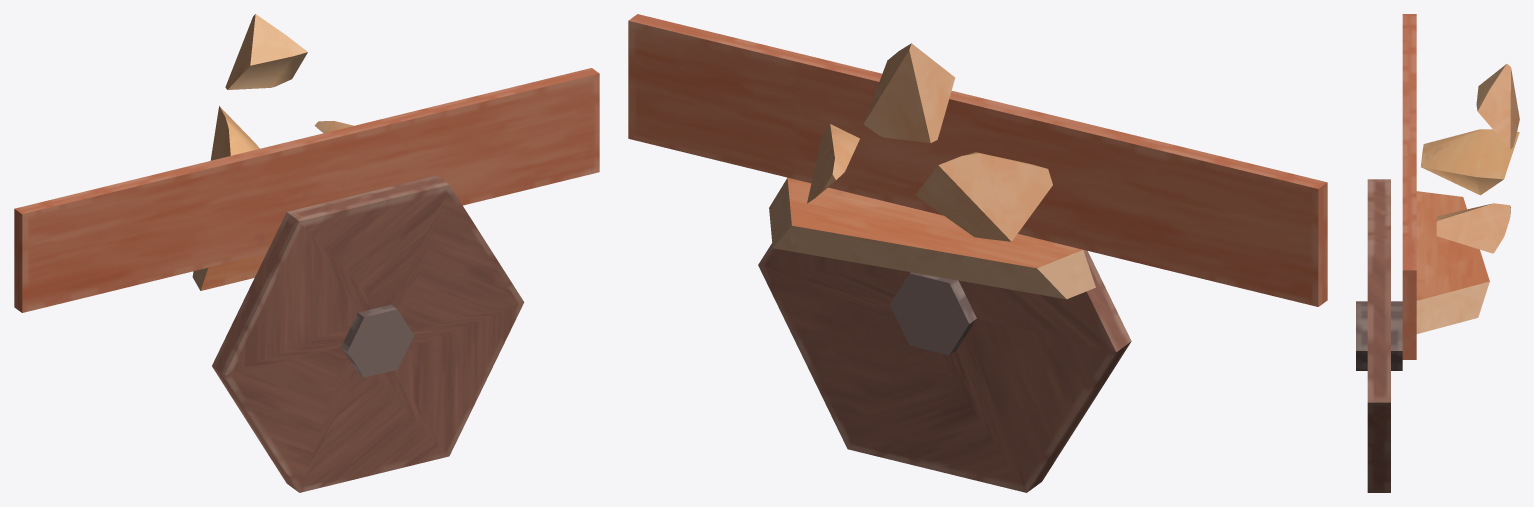
The model's file is cart_s03.fbx.
The picture shows the model from 3 angles, left to right: view 1: azimuth 30°, elevation 25°; view 2: azimuth 150°, elevation 25°; view 3: azimuth 270°, elevation 25°; orthographic projection. The views are drawn at different scales.
Parts seen in each view (by area): view 1: cart_s03; view 2: cart_s03; view 3: cart_s03.
Part boxes in pixels (x1=…): cart_s03: x1=14, y1=14, x2=599, y2=492; cart_s03: x1=628, y1=14, x2=1327, y2=492; cart_s03: x1=1356, y1=14, x2=1519, y2=492.
Size of the model in its own units: 5.2 by 3.57 by 1.4.
